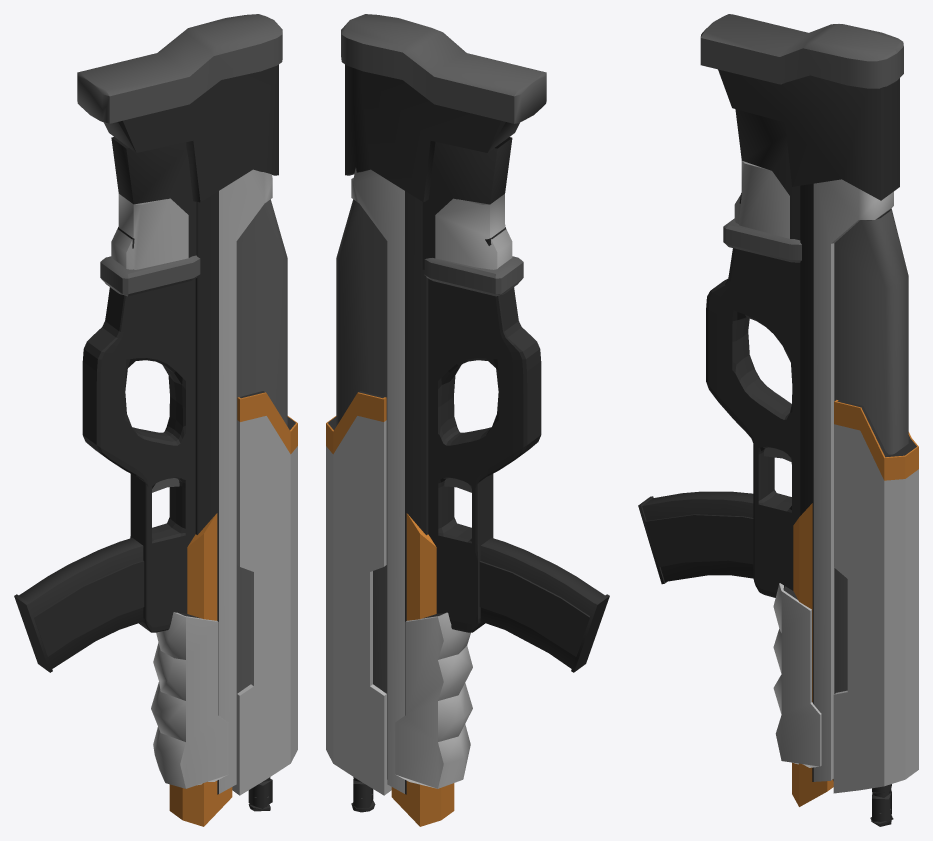
3 views of the same model, side by side, from view 1: azimuth 30°, elevation 25°; view 2: azimuth 150°, elevation 25°; view 3: azimuth 330°, elevation 25° (orthographic).
Visible parts, largest first — view 1: WeaponMesh_qg-ar-4_AR_4, WeaponMesh_qg-ar-4_Magazine; view 2: WeaponMesh_qg-ar-4_AR_4, WeaponMesh_qg-ar-4_Magazine; view 3: WeaponMesh_qg-ar-4_AR_4, WeaponMesh_qg-ar-4_Magazine.
Part boxes in pixels (x1,y1,x2,y2): WeaponMesh_qg-ar-4_AR_4: (77,14,297,826); WeaponMesh_qg-ar-4_Magazine: (14,538,144,672); WeaponMesh_qg-ar-4_AR_4: (326,14,546,826); WeaponMesh_qg-ar-4_Magazine: (479,538,609,672); WeaponMesh_qg-ar-4_AR_4: (700,14,918,826); WeaponMesh_qg-ar-4_Magazine: (638,491,753,584).
Size of the model in its own units: 0.4513 by 1.25 by 0.1019.
